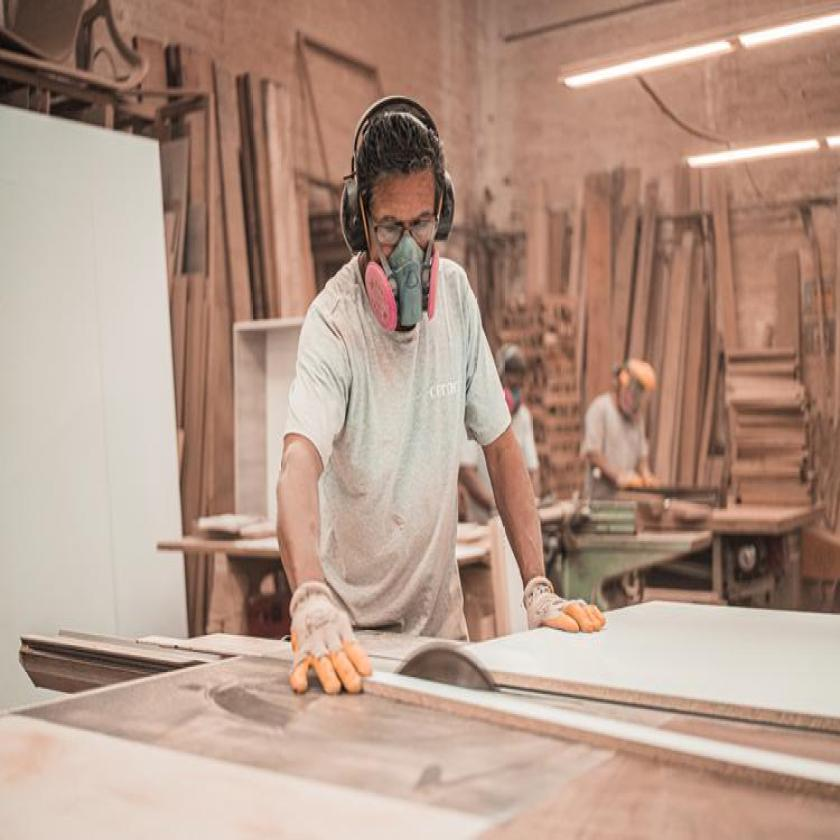Sin_casco: (341, 85, 451, 353)
